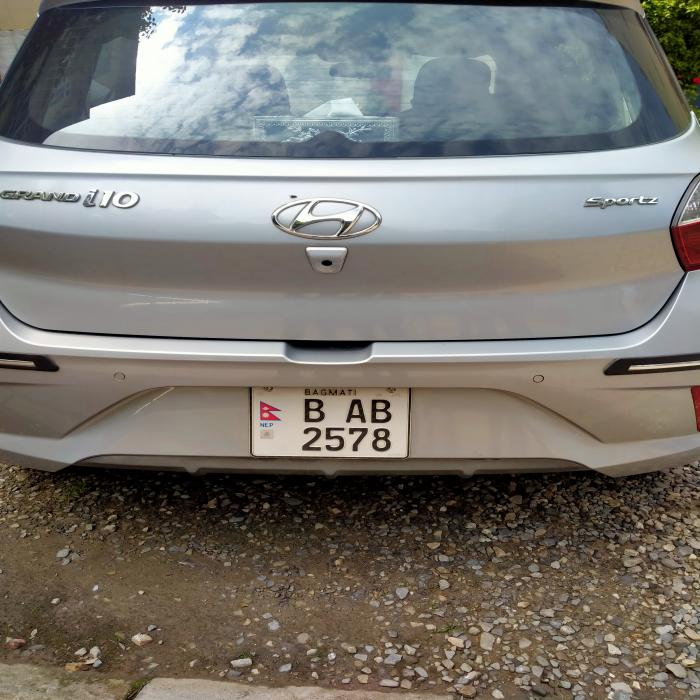number_plate: (252, 387, 407, 456)
